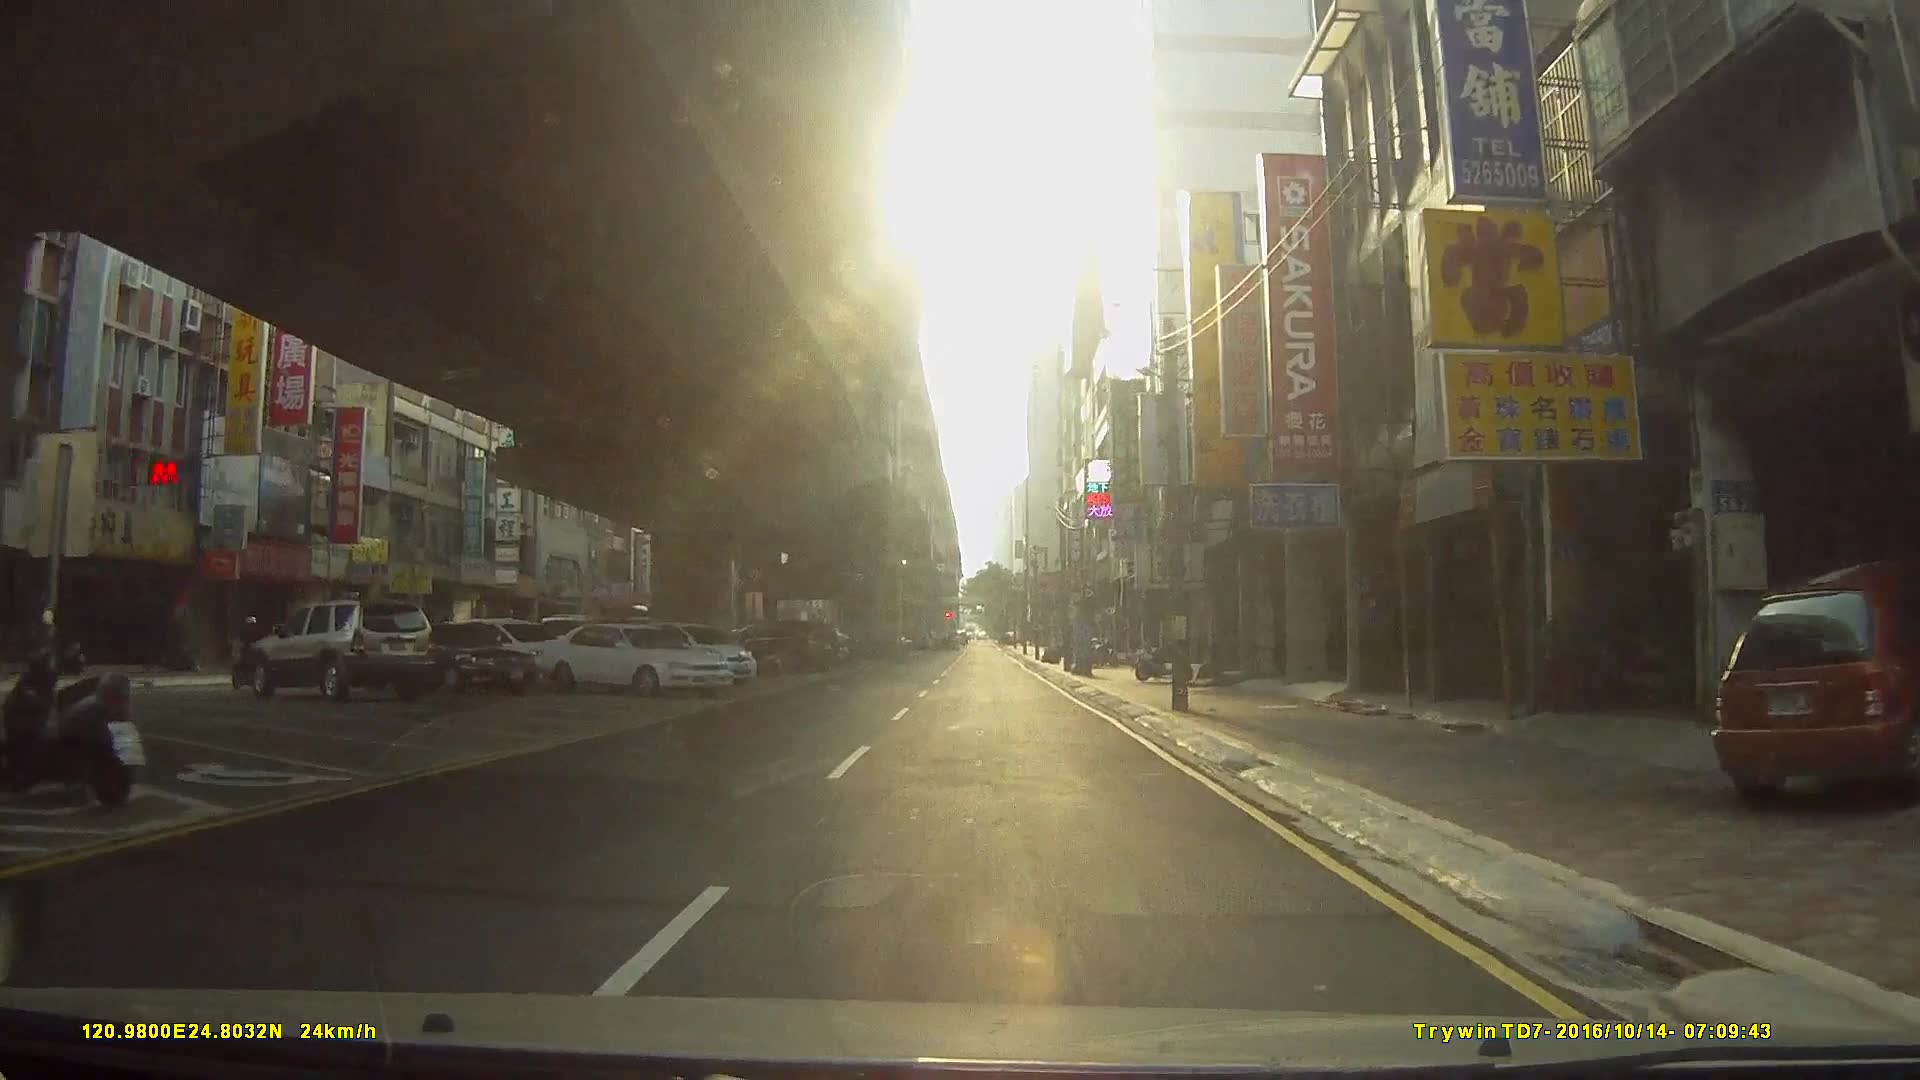vehicle: (1713, 554, 1920, 807), (247, 600, 436, 704), (339, 620, 538, 696), (531, 621, 737, 694)
